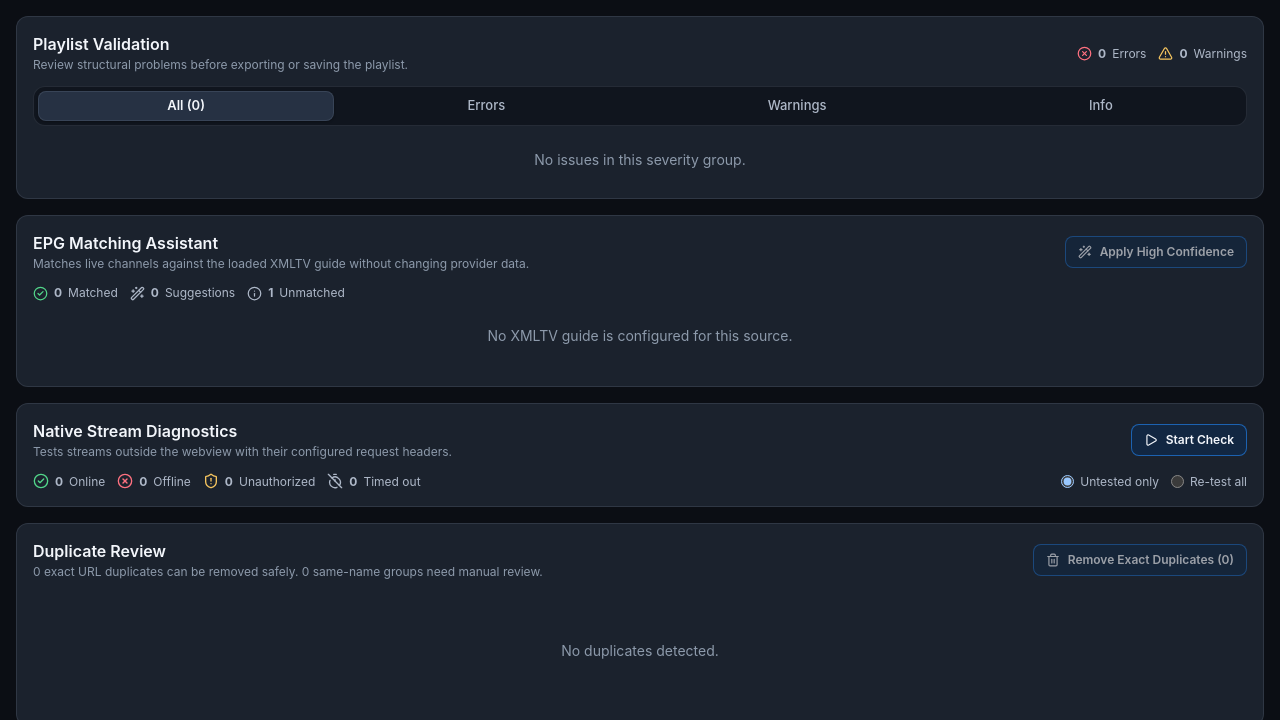
it: M3U Editor UI components › clears in-progress statuses when a stream check is stopped
The image size is (1280, 720).
Step 1. Click the button "Start Check" → (1189, 440), box [1131, 424, 1247, 456]
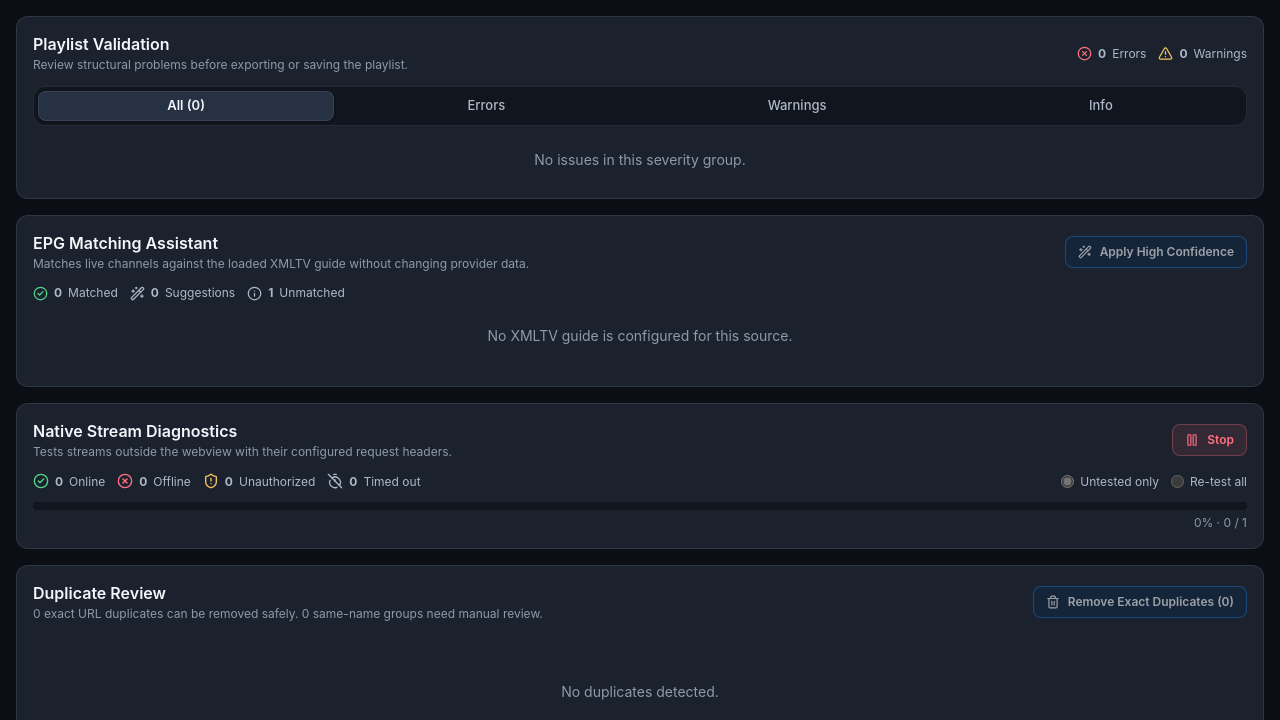
Step 2. Click the button "Stop" → (1210, 440), box [1172, 424, 1247, 456]
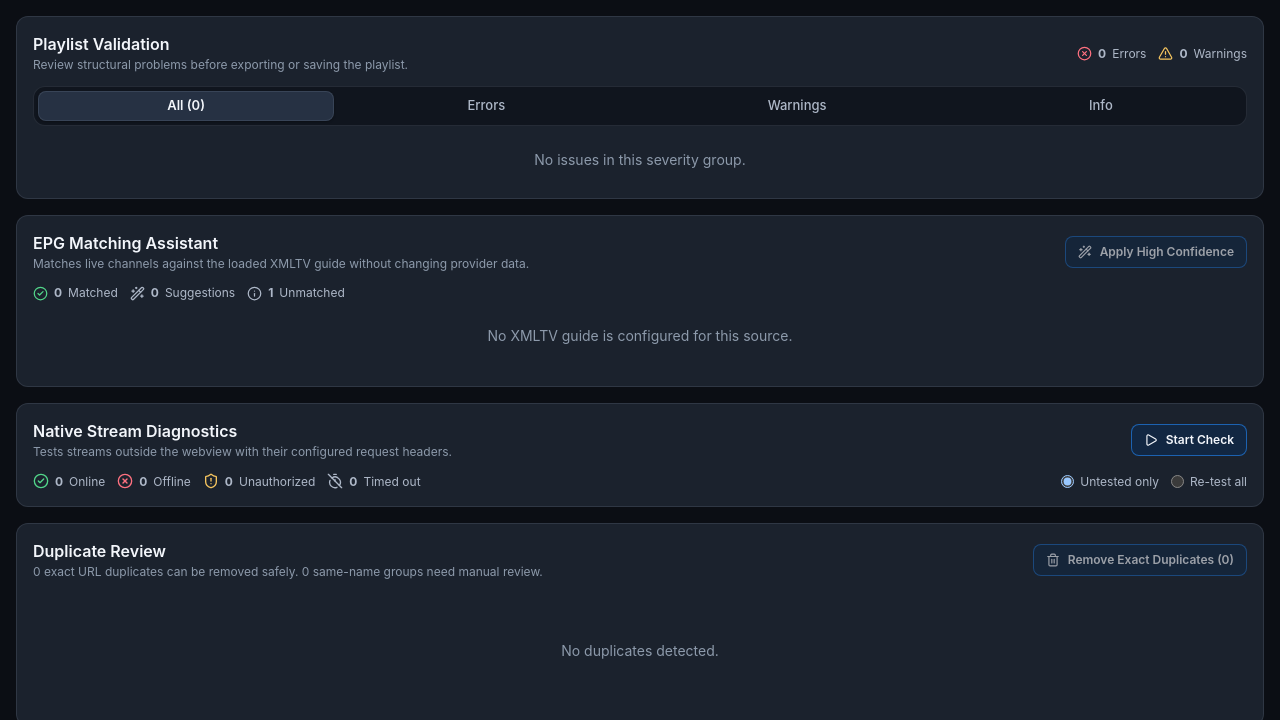
Result: the button "Start Check" is shown at [1131, 424, 1247, 456]
